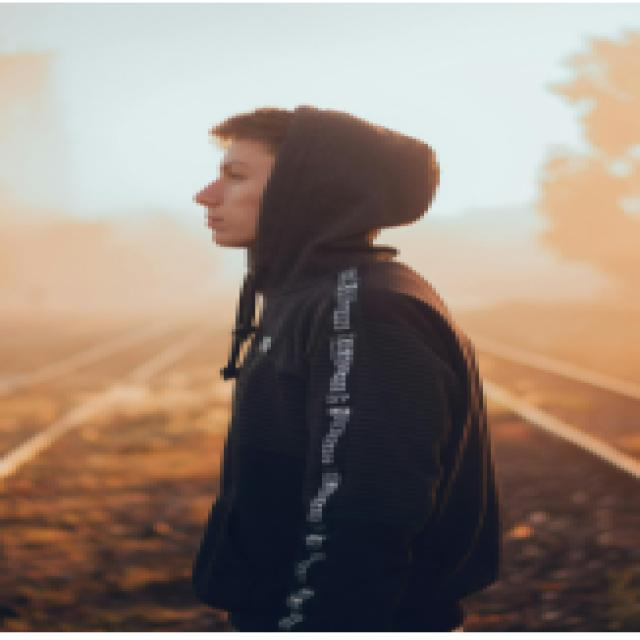4_capucha: (250, 100, 440, 278)
